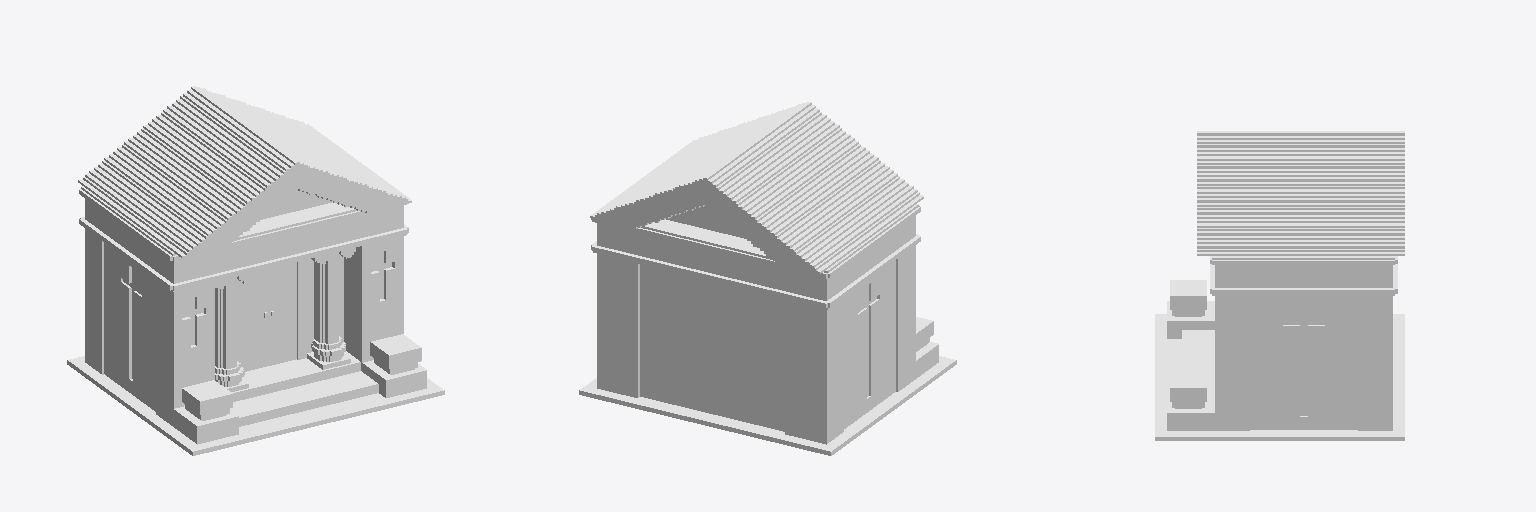
File: mausoleum.vox.obj
The picture shows the model from 3 angles: view 1: azimuth 30°, elevation 25°; view 2: azimuth 150°, elevation 25°; view 3: azimuth 270°, elevation 25°; orthographic projection.
Visible parts, largest first — view 1: object 1; view 2: object 1; view 3: object 1.
Boxes of the visible parts, x1,y1,x2,y2 form: object 1: [67, 86, 444, 455]; object 1: [579, 102, 956, 455]; object 1: [1155, 131, 1404, 440].
Bounding box in the file's own units: 11.6 × 10.9 × 10.